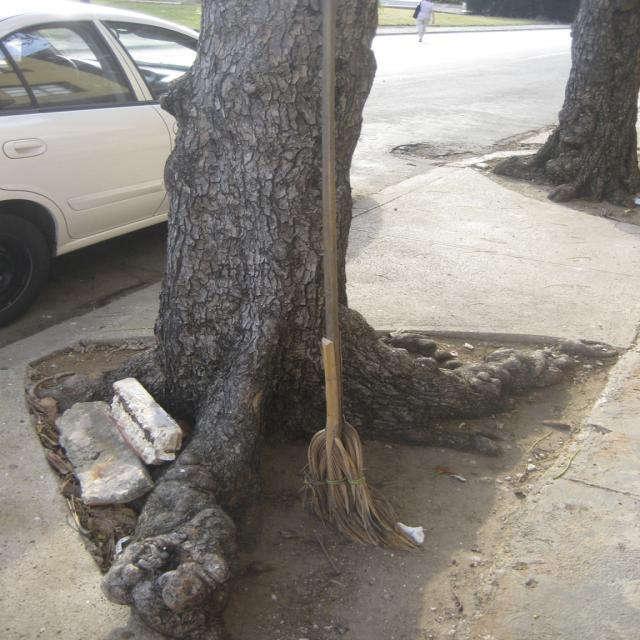car: (0, 18, 193, 275)
